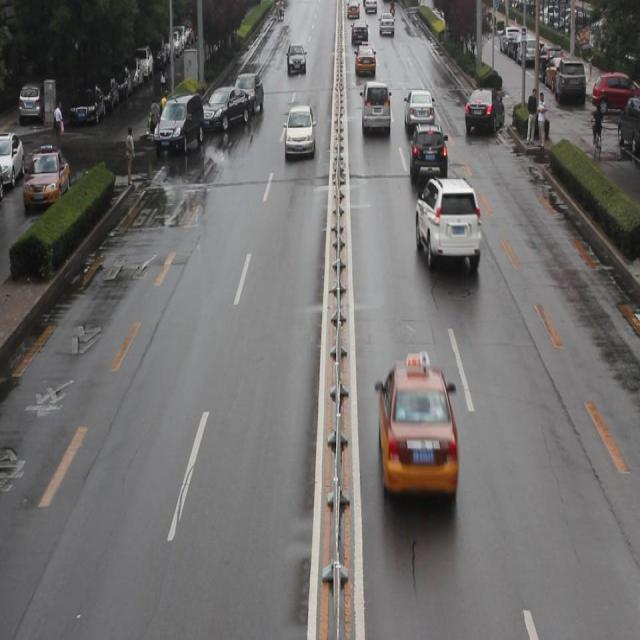car: (375, 352, 457, 501), (414, 175, 478, 272), (407, 122, 446, 186), (198, 86, 250, 132), (403, 90, 434, 138), (229, 74, 263, 116), (284, 110, 314, 154)
truck: (154, 96, 203, 151), (358, 80, 388, 137)
